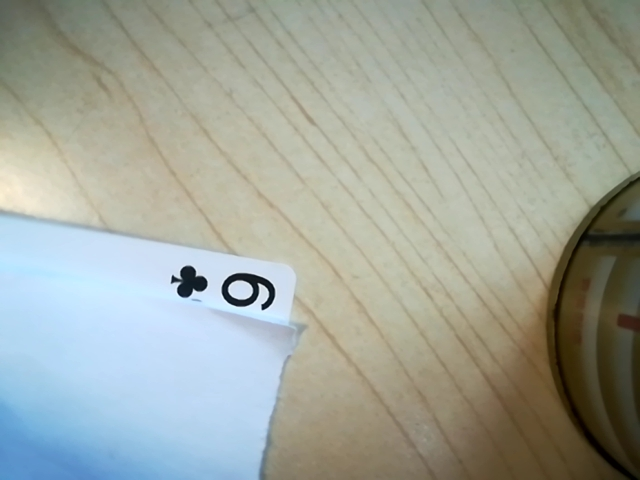mh 6: (159, 262, 297, 324)
